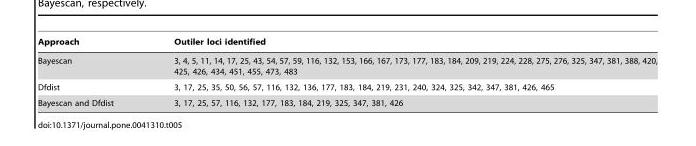table: (37, 37, 656, 107)
table column: (143, 37, 656, 107), (37, 37, 143, 107)
table column header: (37, 37, 656, 51)
table row: (37, 51, 656, 79), (37, 79, 656, 94), (37, 37, 656, 51), (37, 94, 656, 107)
